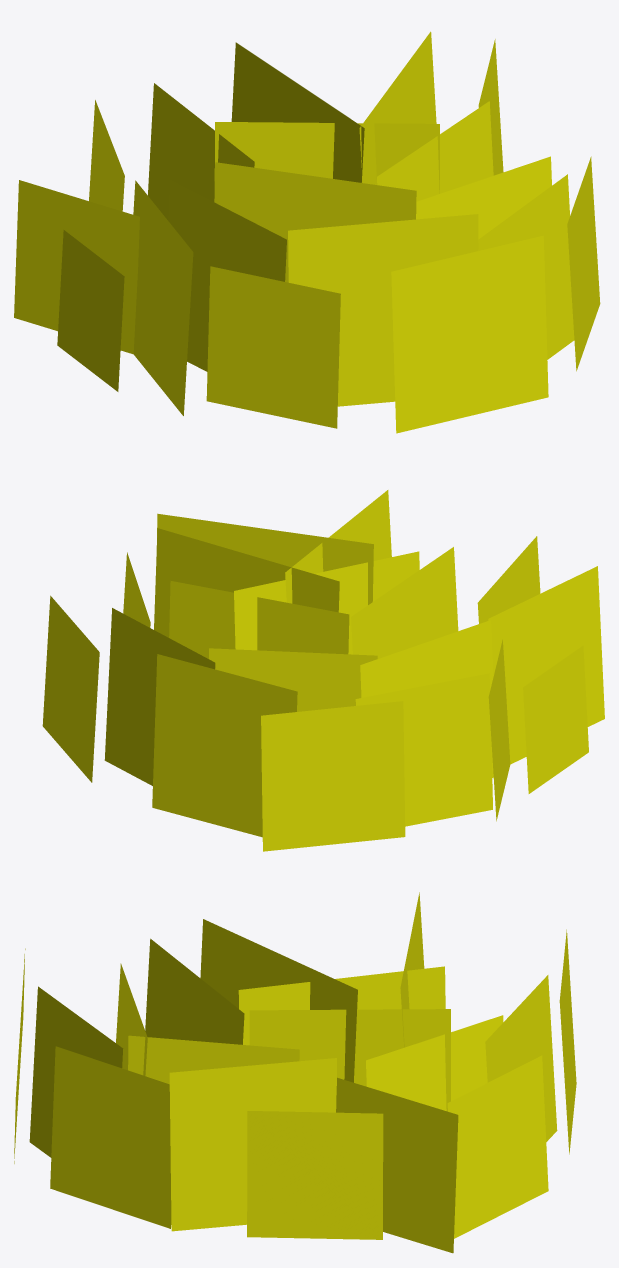
The model's file is flower_b.glb.
3 views of the same model, one above another, from view 1: azimuth 30°, elevation 25°; view 2: azimuth 150°, elevation 25°; view 3: azimuth 270°, elevation 25° (orthographic). The views are drawn at different scales.
Visible parts, largest first — view 1: SM_Wild_Flower_02; view 2: SM_Wild_Flower_02; view 3: SM_Wild_Flower_02.
Part boxes in pixels (left/top/right/bottom): SM_Wild_Flower_02: left=14, top=31, right=600, bottom=433; SM_Wild_Flower_02: left=42, top=490, right=604, bottom=851; SM_Wild_Flower_02: left=14, top=892, right=576, bottom=1253.
Bounding box in the file's own units: 1.14 × 0.4834 × 1.22.
